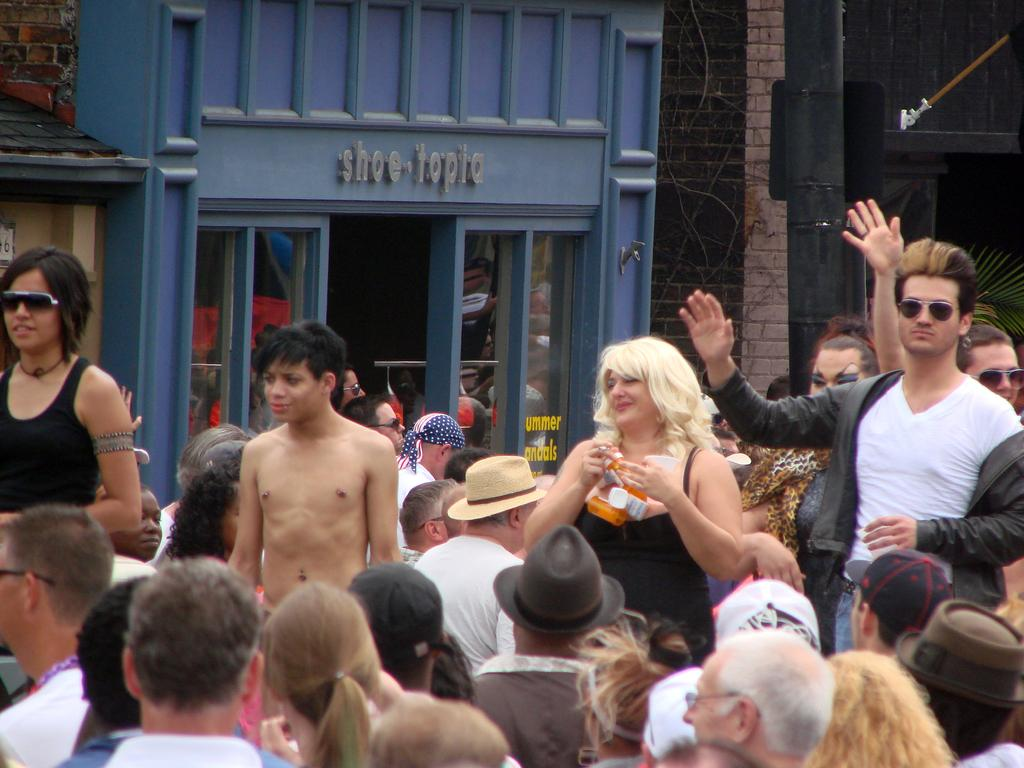Hat: (492, 523, 624, 637), (898, 600, 1022, 709), (446, 454, 550, 520)
